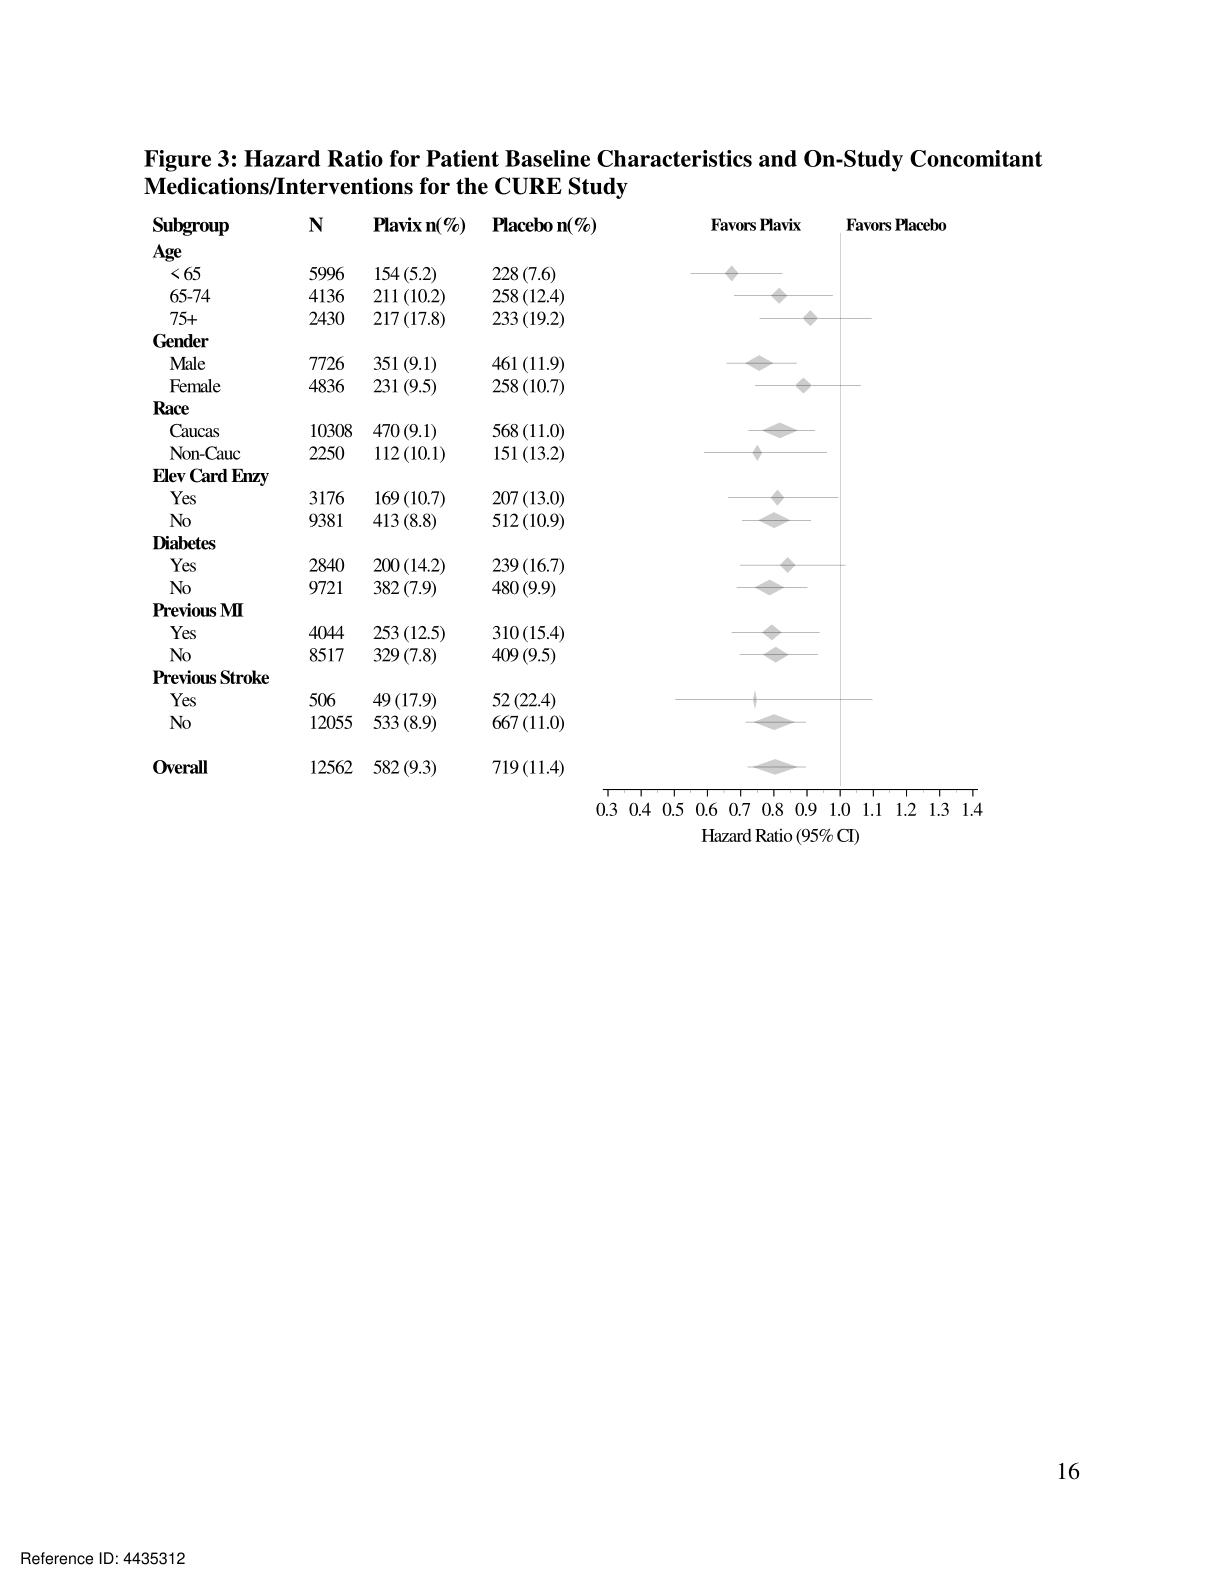nolines: (145, 208, 963, 787)
